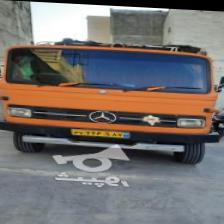plate: (71, 127, 134, 137)
